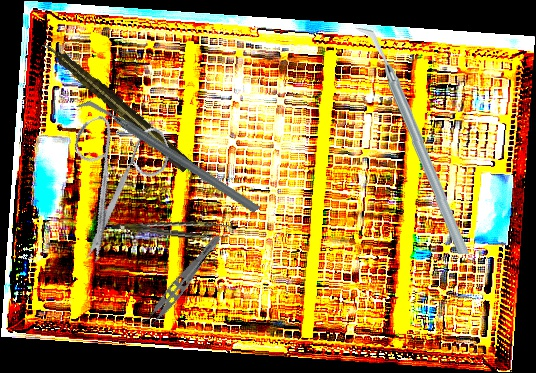Chopper: (74, 51, 263, 263), (350, 27, 475, 255)
Handpiece: (38, 35, 194, 175)
Iris Scissors: (37, 96, 200, 265)
Tissue Forceps: (137, 228, 224, 333), (111, 209, 232, 245)
